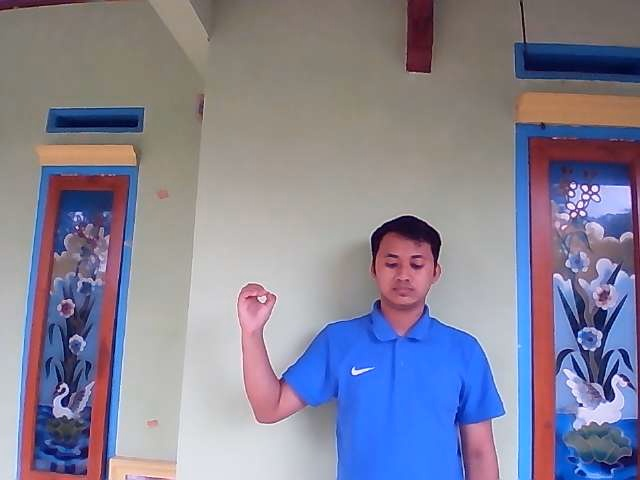O: (235, 282, 280, 335)
